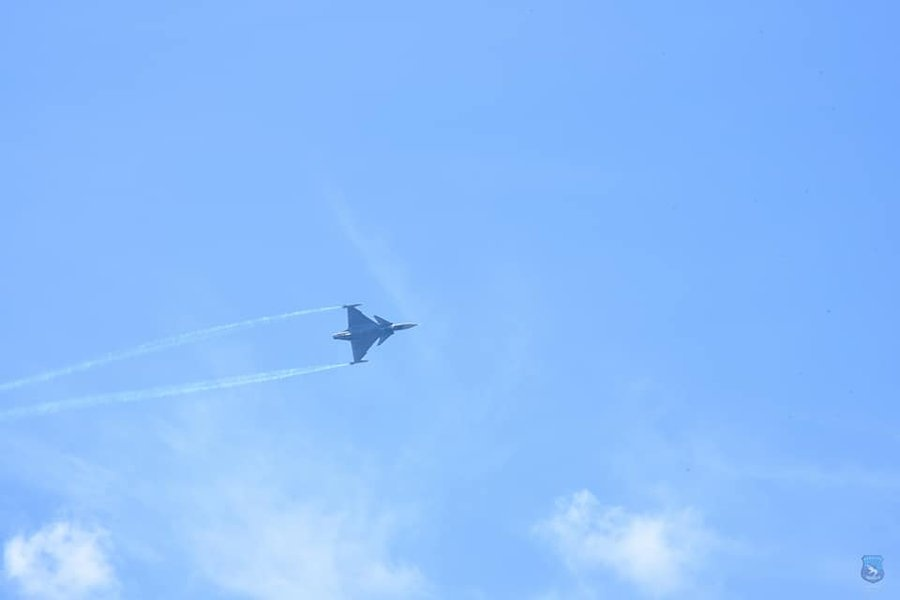JAS39: (331, 303, 420, 365)
